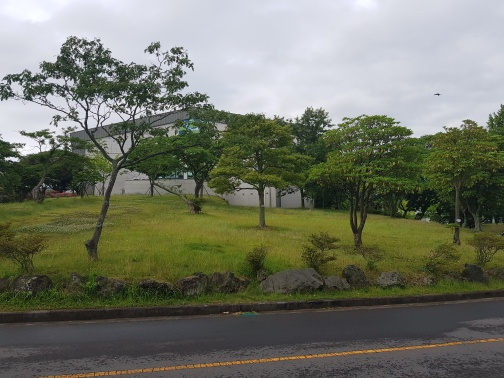Gym: (67, 103, 309, 208)
